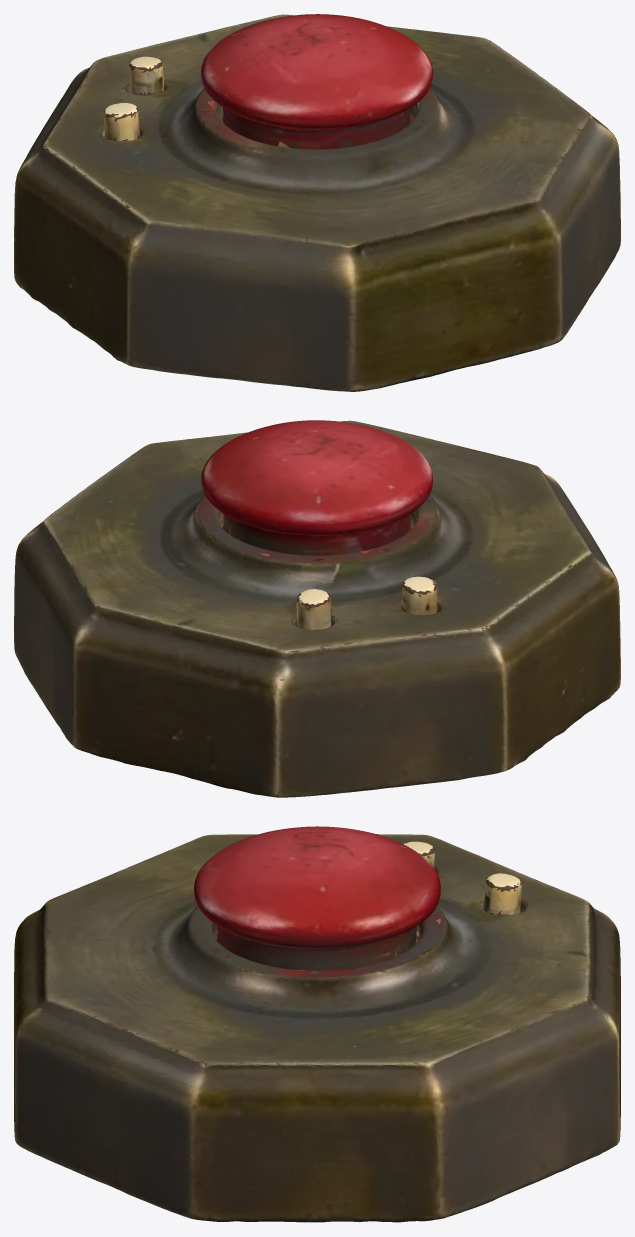
Rendered from 500db0b5-2c30-4d43-8351-5df1cda6297b.glb.
The picture shows the model from 3 angles, top to bottom: view 1: azimuth 30°, elevation 25°; view 2: azimuth 150°, elevation 25°; view 3: azimuth 270°, elevation 25°; orthographic projection. The views are drawn at different scales.
Parts seen in each view (by area): view 1: geometry_0; view 2: geometry_0; view 3: geometry_0.
Part boxes in pixels (x1,y1,x2,y2): geometry_0: (14,14,620,391); geometry_0: (14,420,620,797); geometry_0: (14,826,620,1222).
Size of the model in its own units: 0.095 by 0.0432 by 0.095.
Materials: 1 (1 with a texture image).
